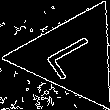L_NE: (38, 29, 105, 83)
